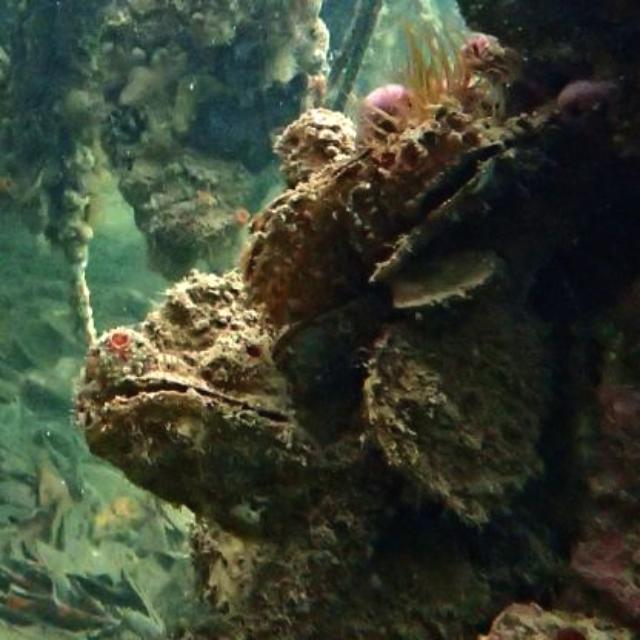Oyster-Closed: (238, 108, 498, 327), (367, 296, 552, 501), (391, 249, 512, 319), (489, 599, 637, 640)
Oyster-Open: (82, 373, 329, 538), (367, 101, 564, 294)
